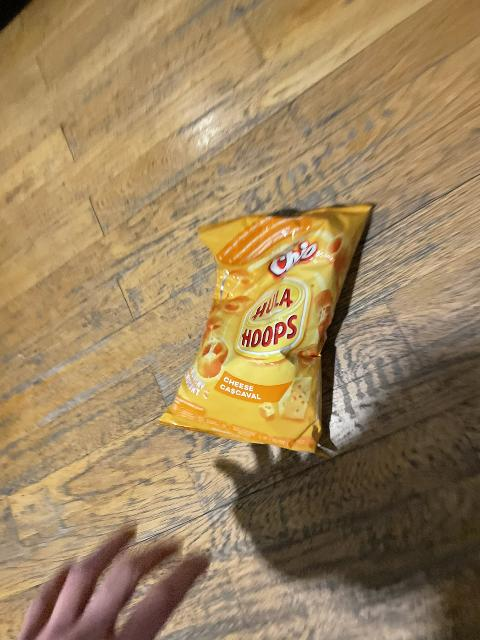Chio Hula Hoops Cheese 70g: (159, 210, 374, 452)
